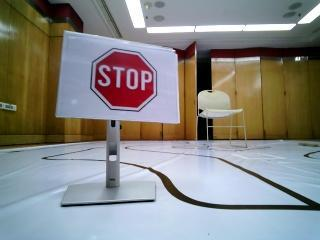stop: (71, 40, 167, 126)
